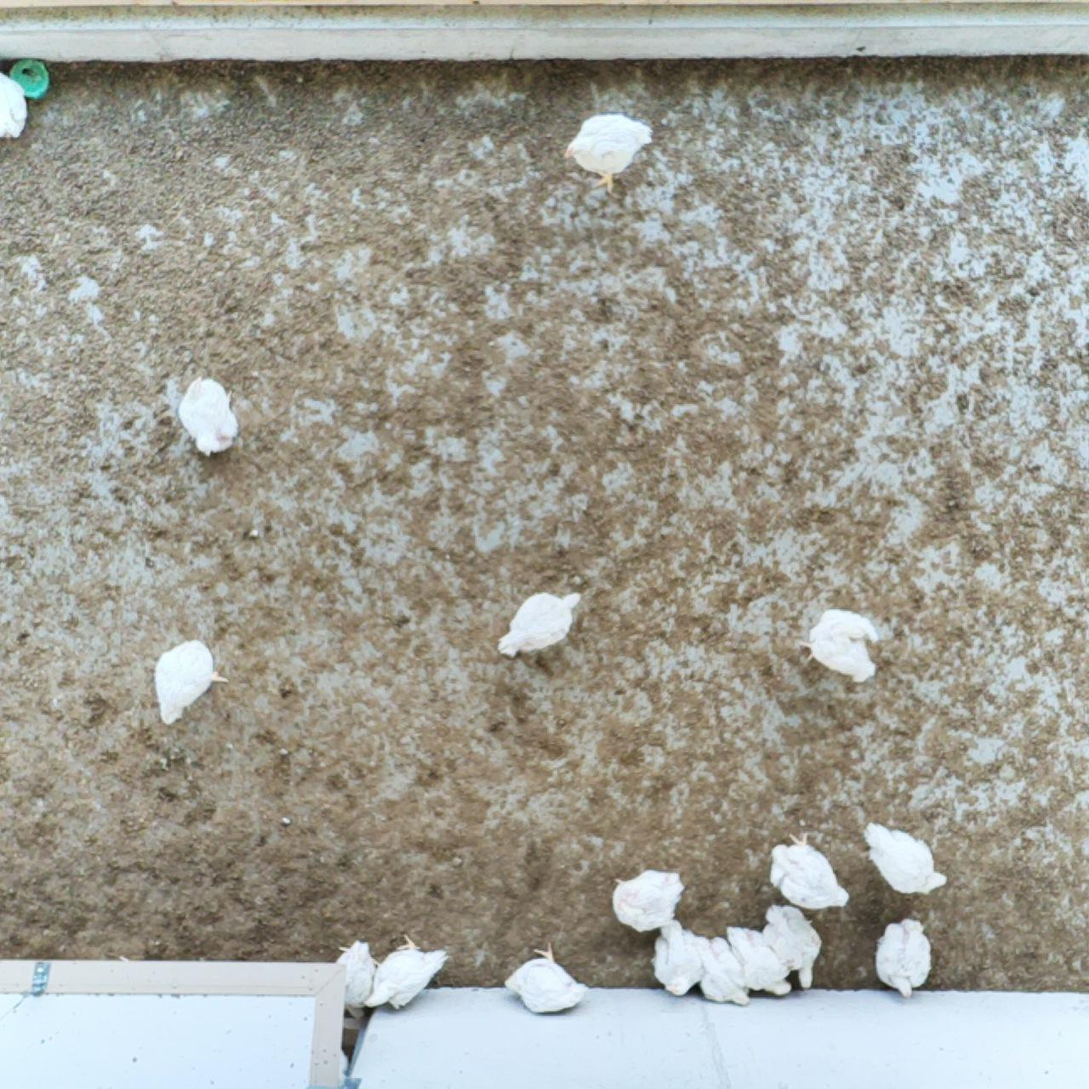chicken: (563, 108, 659, 195), (363, 931, 451, 1018), (765, 829, 850, 912), (150, 631, 225, 723), (495, 587, 584, 664), (797, 602, 879, 685), (860, 820, 948, 897), (502, 940, 587, 1016), (869, 916, 936, 1001), (724, 921, 793, 1001), (644, 916, 704, 1005), (610, 868, 690, 934), (763, 902, 822, 991), (321, 937, 378, 1028), (177, 371, 237, 454), (695, 931, 747, 1009), (0, 63, 26, 147)
